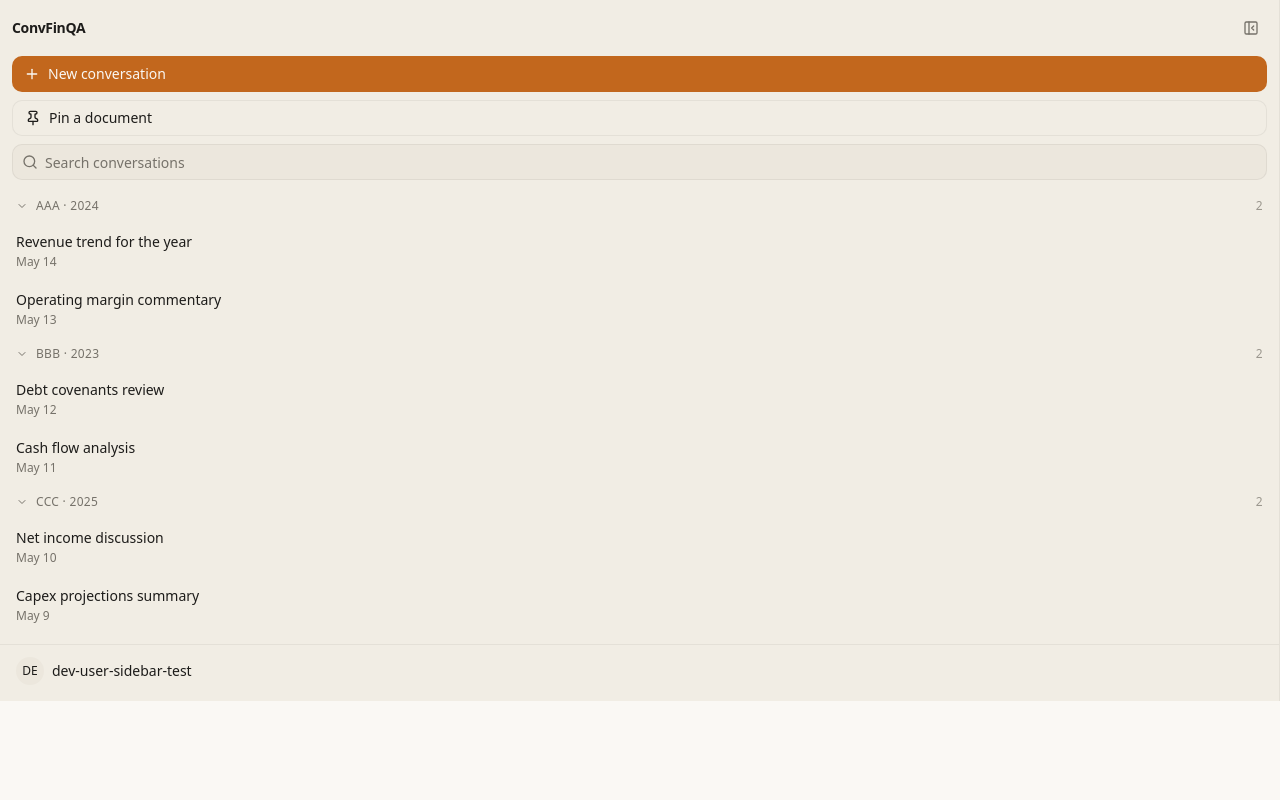
Test: Sidebar — grouped chat list › keeps the whole group's conversations when the query matches the document title
expect the text "Revenue trend for the year" is shown: met, box [16,232,192,251]
Type "bbb 2023" into the search field labelled "Search conversations".
click(640, 162); type("bbb 2023")  # box [12,144,1267,180]
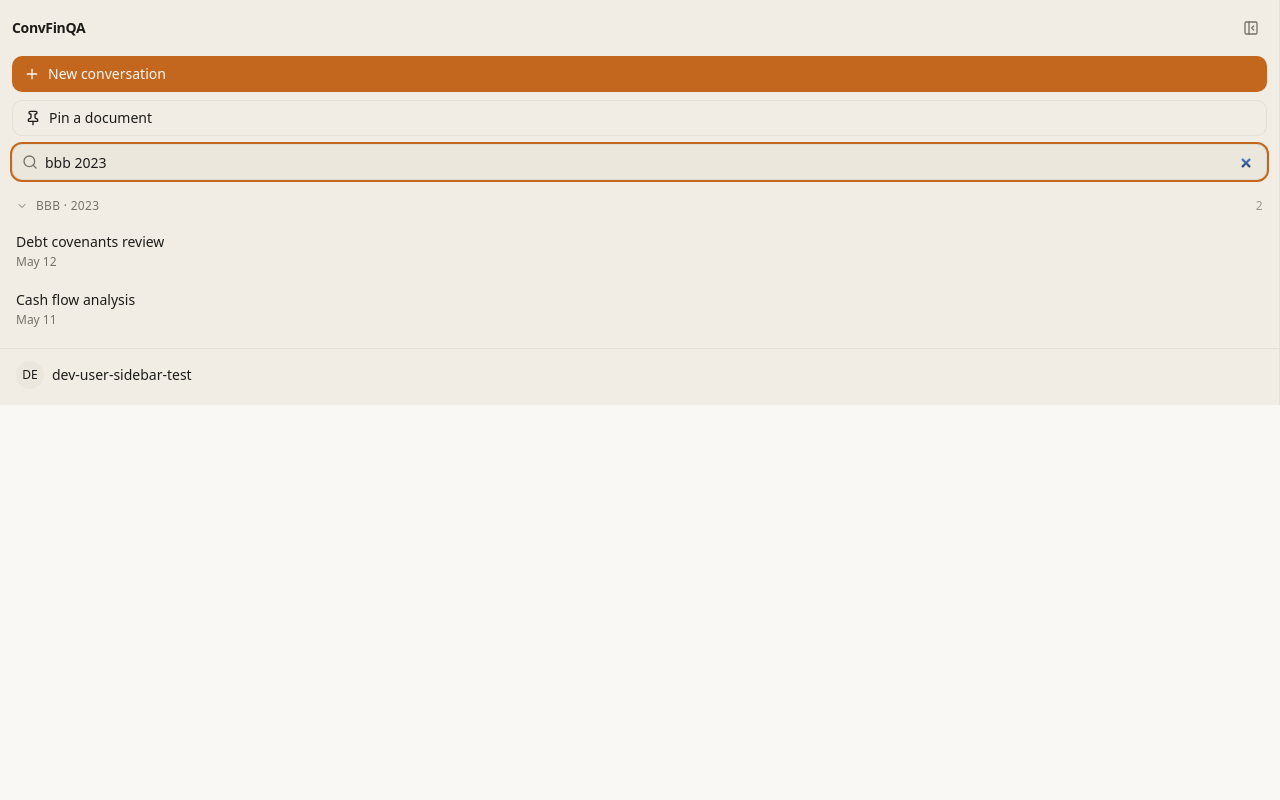
expect the text "Debt covenants review" is shown: met, box [16,232,164,251]
expect the button "Revenue trend for the year" is gone: met
